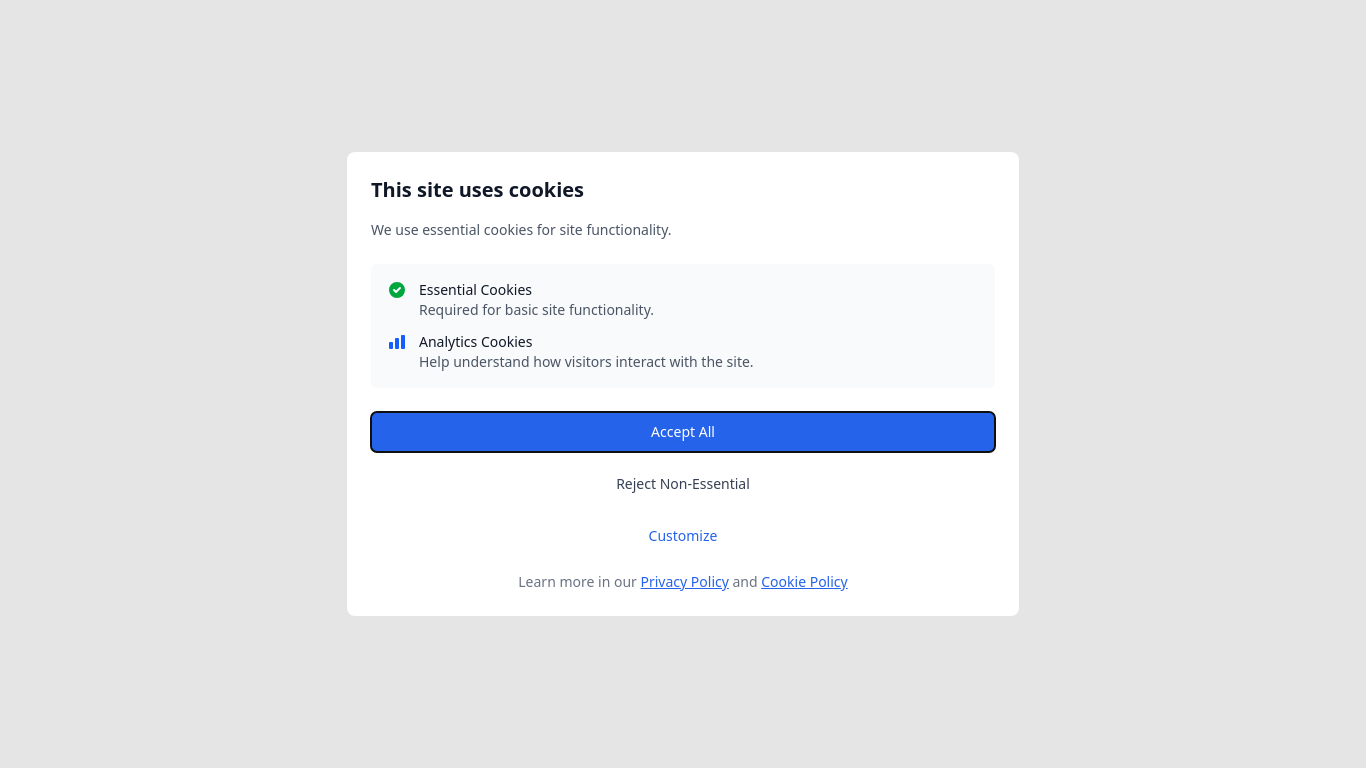
CookieConsent › User interactions - Main view › should show customize view when Customize clicked
Click the button "Customize": (683, 536) [371, 516, 995, 556]
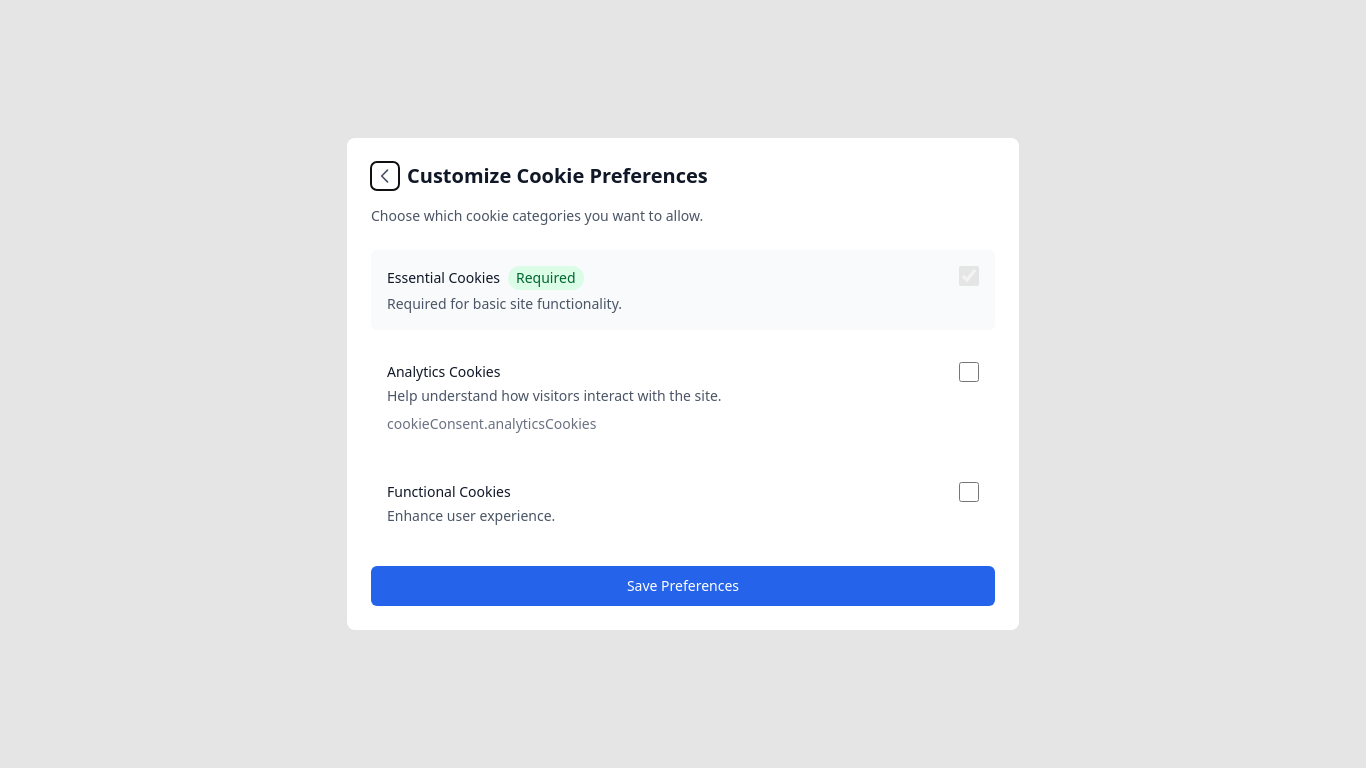
Now the heading "Customize Cookie Preferences" is shown, box [407, 162, 708, 190]
Now the button "Save Preferences" is shown, box [371, 566, 995, 606]
